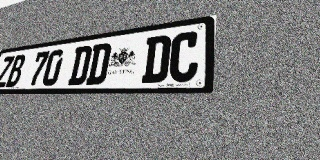0: (41, 49, 65, 86)
7: (27, 51, 50, 86)
B: (5, 54, 27, 87)
C: (168, 30, 200, 82)
D: (141, 34, 172, 83), (85, 42, 112, 85), (67, 45, 93, 85)
Z: (0, 56, 15, 87)
